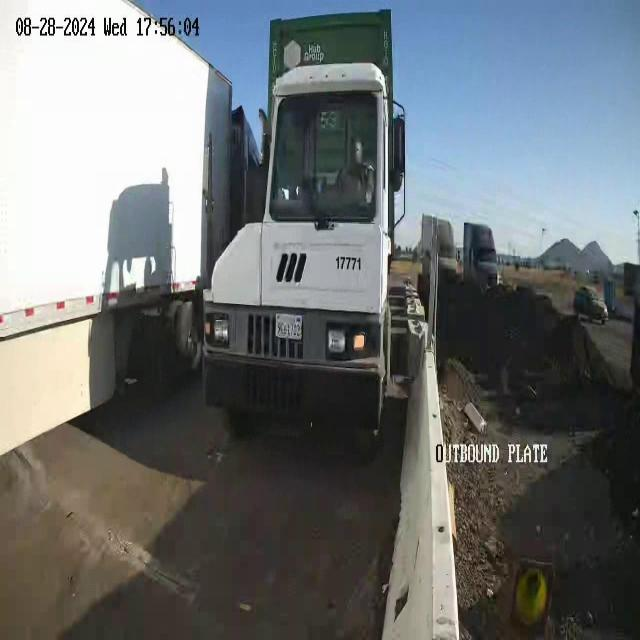TRUCK_CONTAINER: (0, 1, 260, 455), (200, 8, 408, 445)
